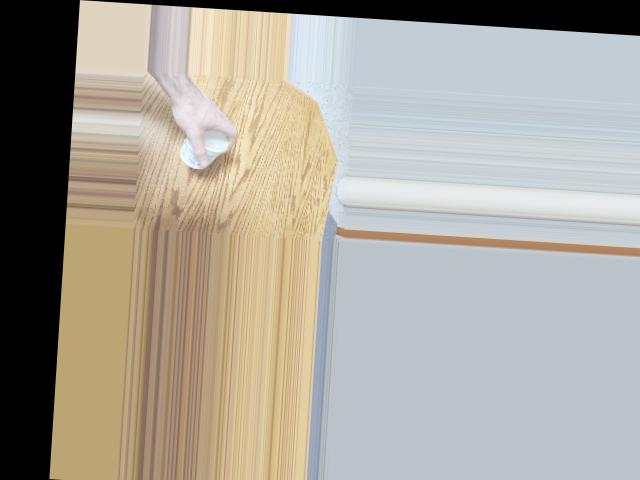cotage: (174, 119, 231, 167)
